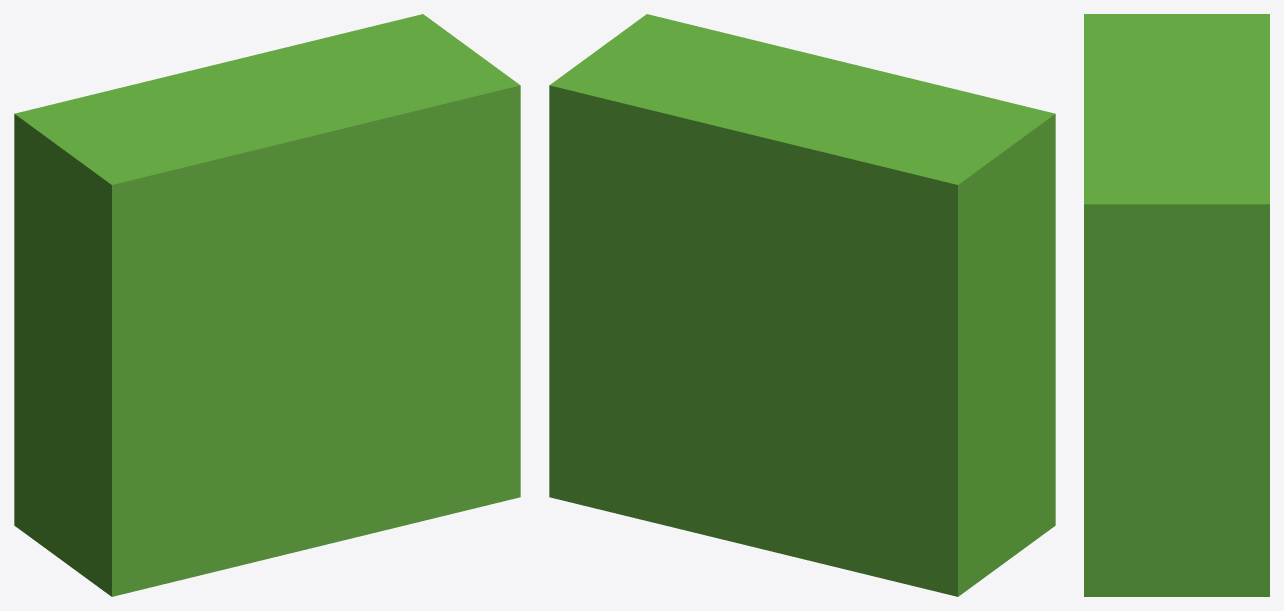
File: low-poly-bush.fbx
The picture shows the model from 3 angles, left to right: view 1: azimuth 30°, elevation 25°; view 2: azimuth 150°, elevation 25°; view 3: azimuth 270°, elevation 25°; orthographic projection. The views are drawn at different scales.
Parts seen in each view (by area): view 1: Bush; view 2: Bush; view 3: Bush.
Boxes of the visible parts, <box> form: Bush: <box>14,14,520,596</box>; Bush: <box>549,14,1055,596</box>; Bush: <box>1084,14,1269,596</box>.
Bounding box in the file's own units: 297 × 286 × 123.
